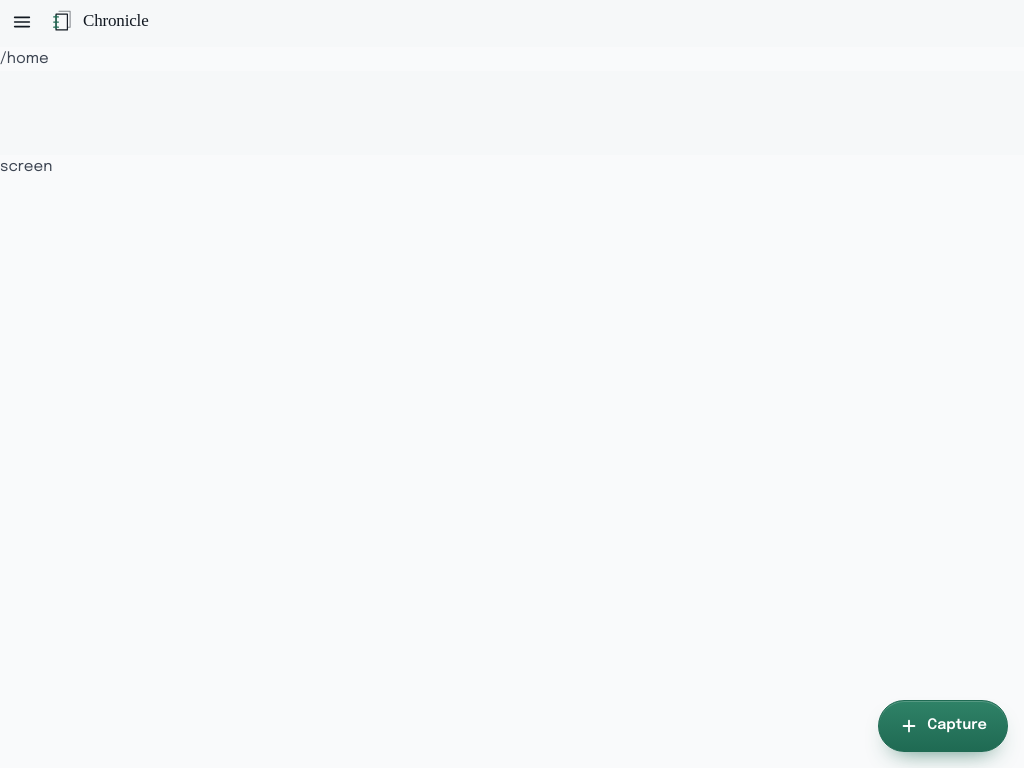
mobile drawer › opens from the top-left menu control and closes on Escape
This screenshot has width=1024, height=768.
Click the button with test id "nav-menu-button": coordinates (22, 22) [0, 0, 44, 44]
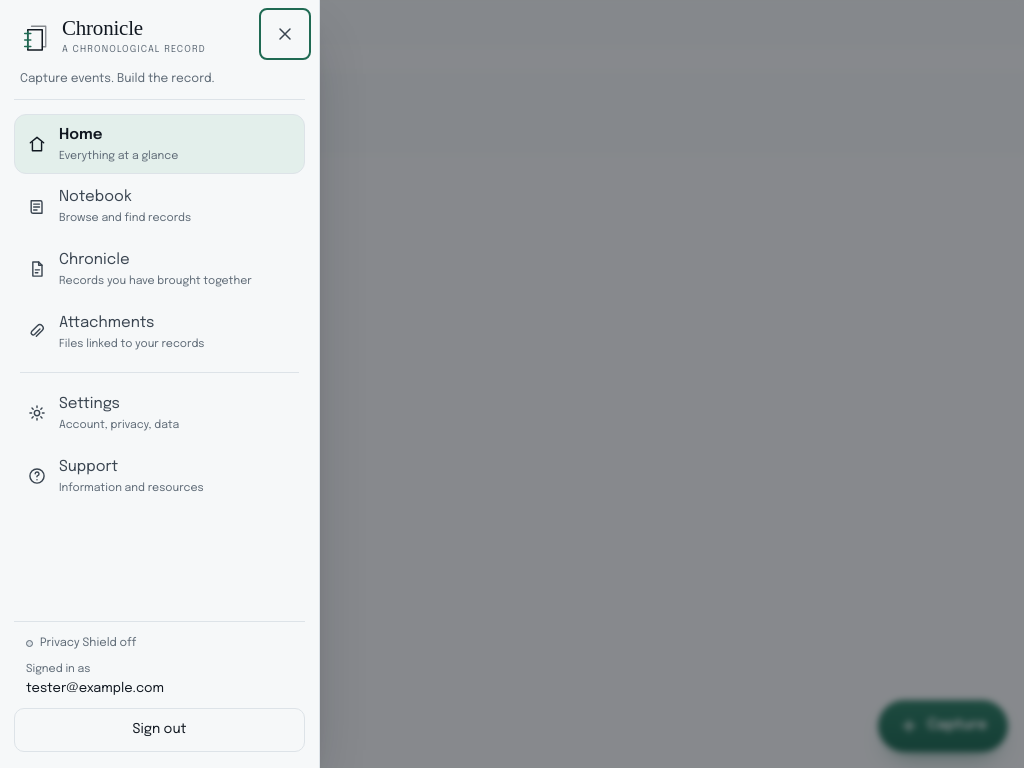
Expected: the dialog with test id "nav-drawer" is shown, [0, 0, 320, 767]
Press Escape
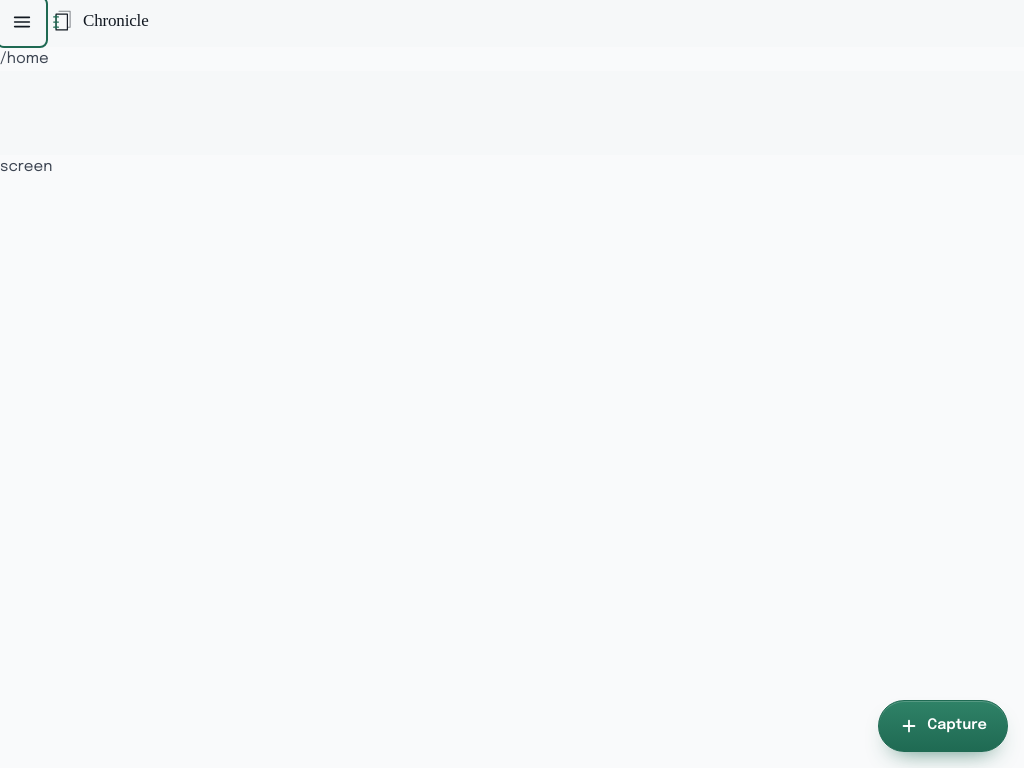
Expected: the dialog with test id "nav-drawer" is gone
